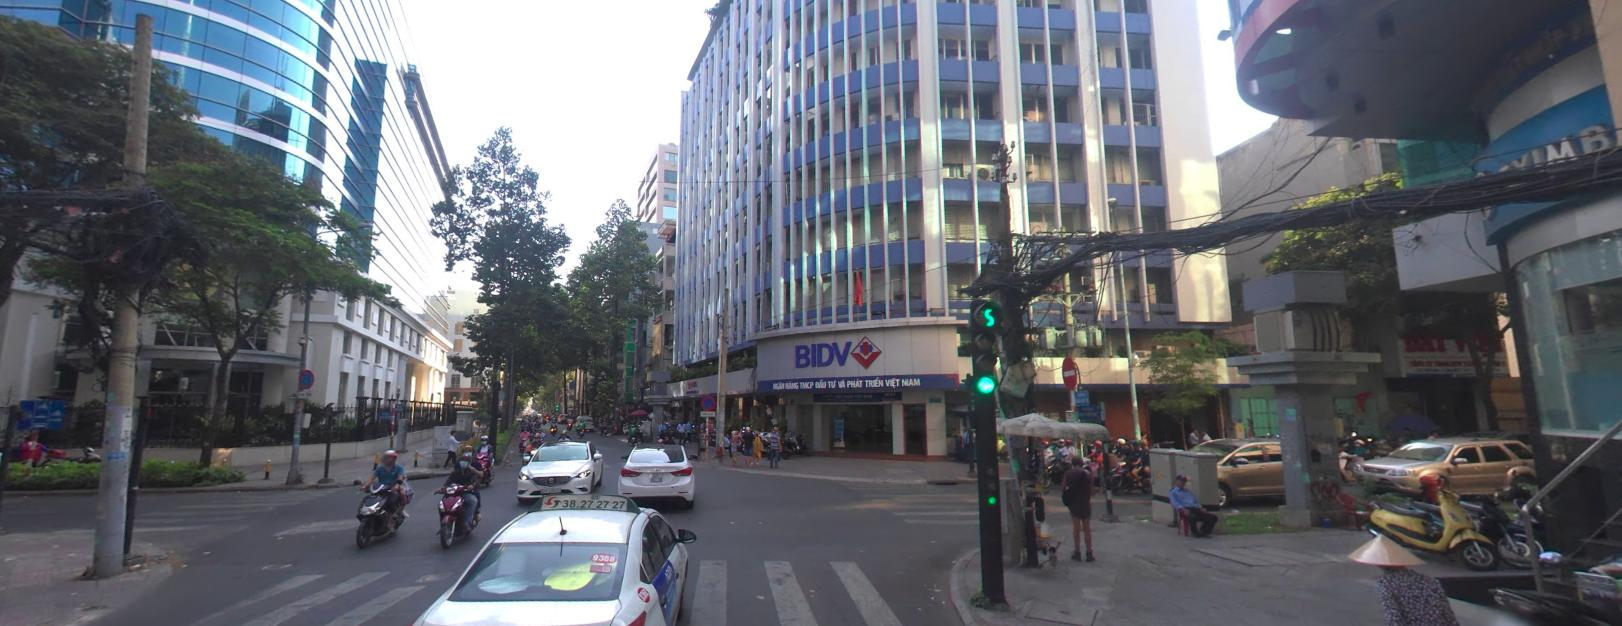Cam dung va do: (298, 367, 313, 387), (700, 393, 716, 409)
Cam nguoc chieu: (1061, 354, 1077, 388)
